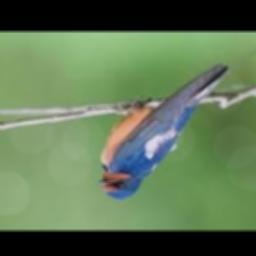Swallow: (97, 64, 229, 198)
